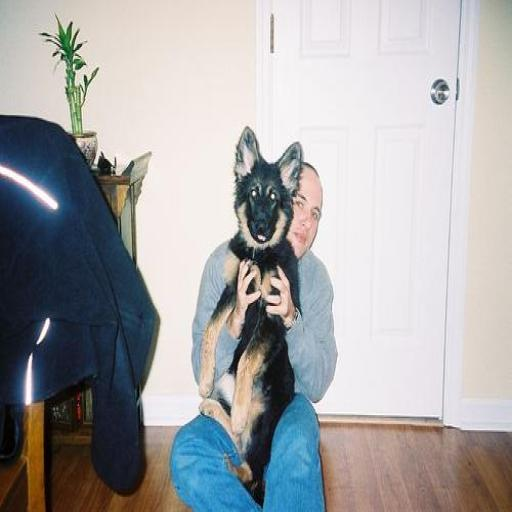dog_face: (229, 128, 300, 245)
